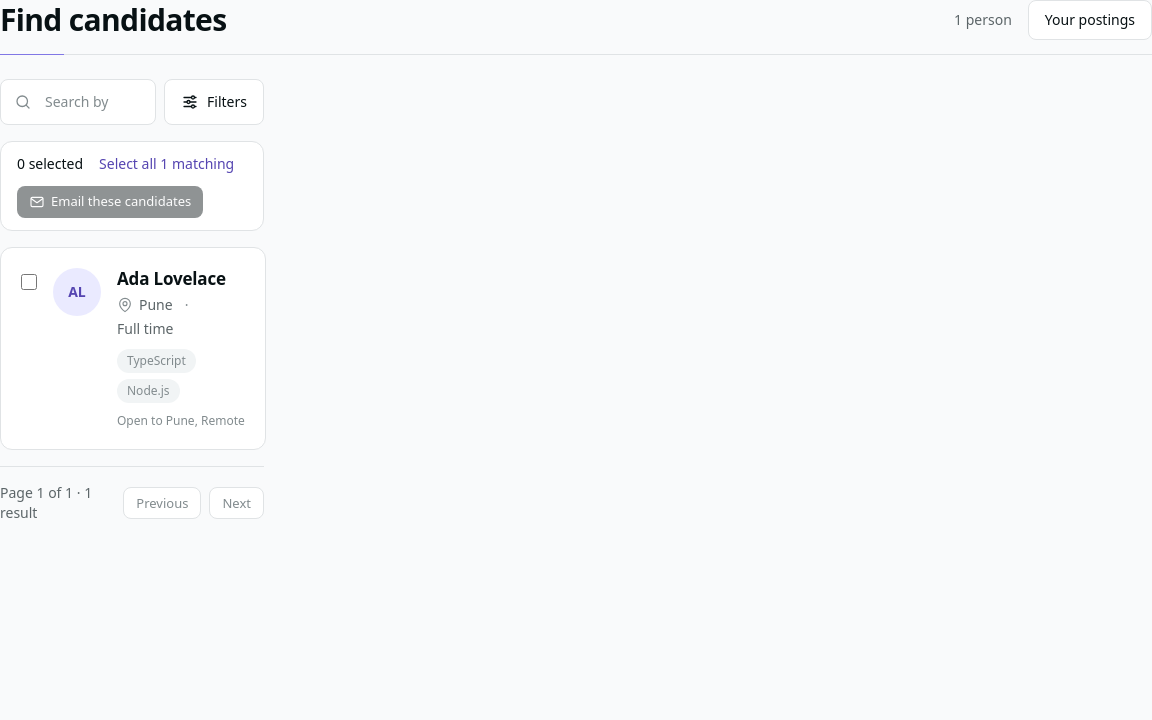
Test: CandidatesPage › confirms with a popup once a campaign is sent
Check: the link "Ada Lovelace" is shown, box [117,268,226,289]
Click the checkbox named "Select Ada Lovelace": (29, 282) [21,274,37,290]
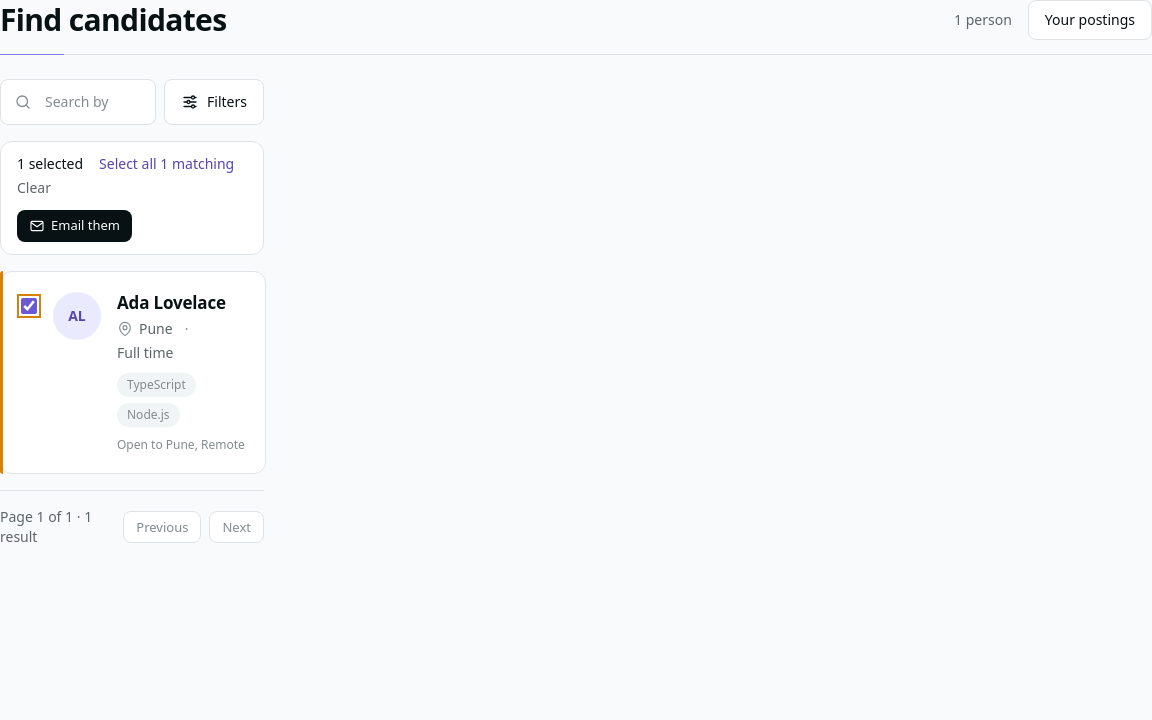
Click the button "Email them": (74, 226) [17,210,132,242]
(page scrolled)
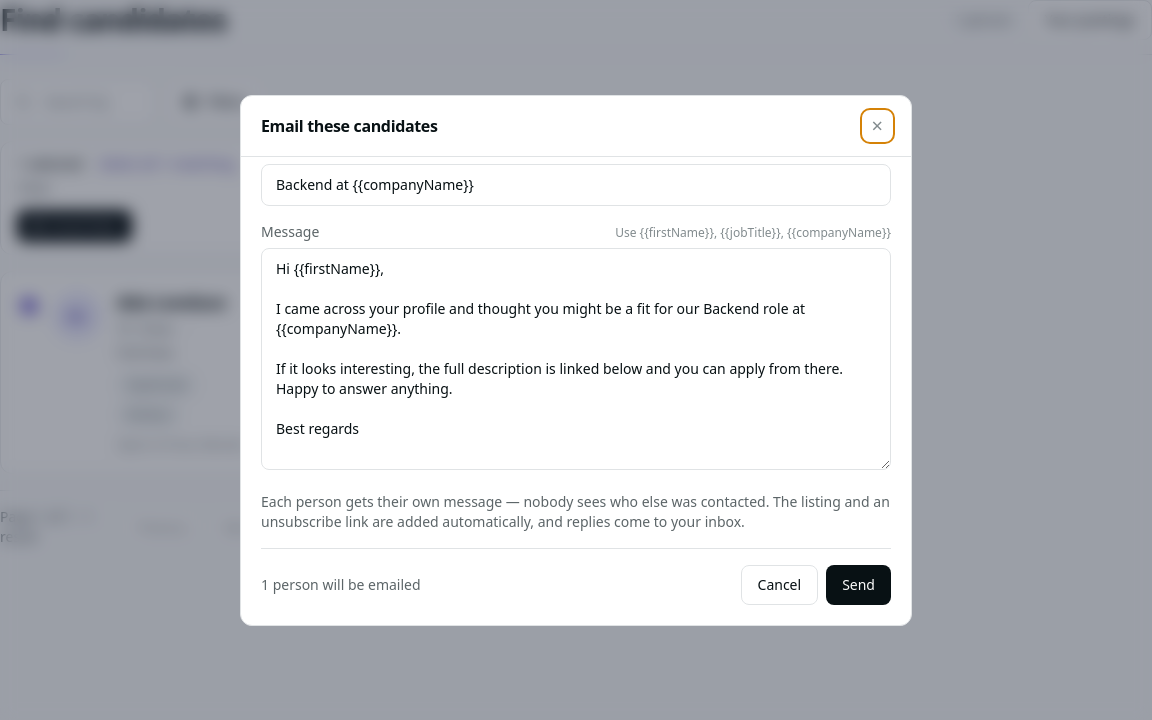
Check: the text "1 person will be emailed" is shown, box [261,574,421,594]
Click the button "Send": (859, 584) [826,564,891,604]
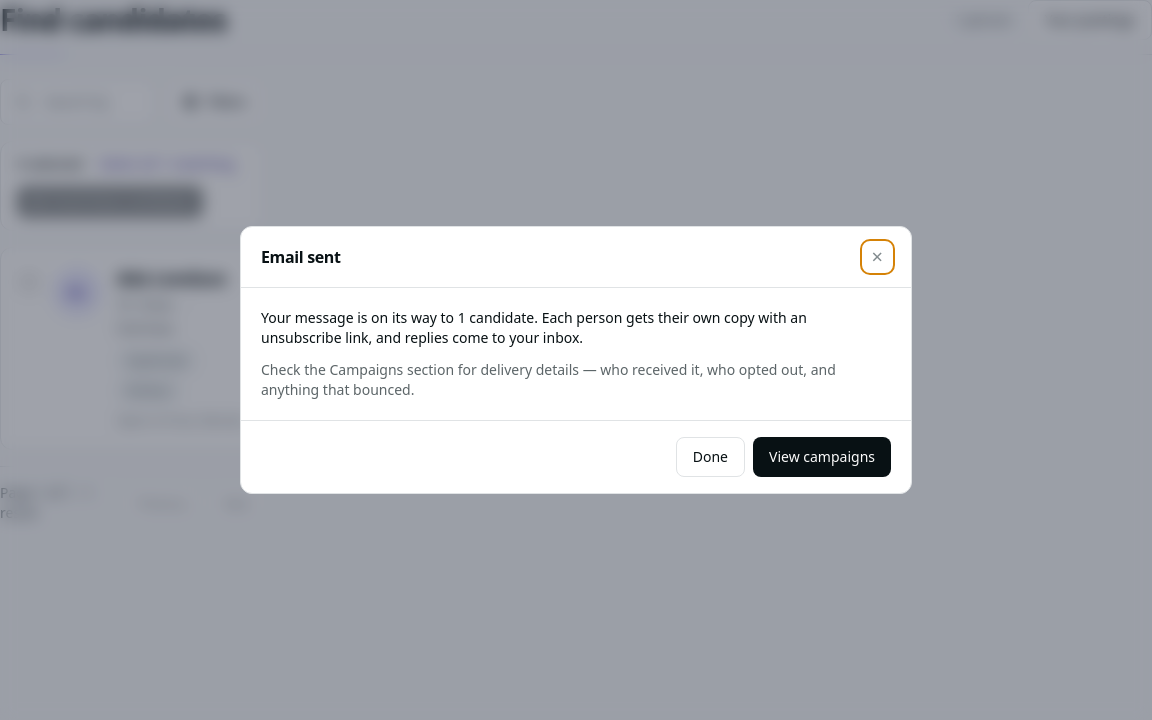
Check: the heading "Email sent" is shown, box [261,245,341,269]
